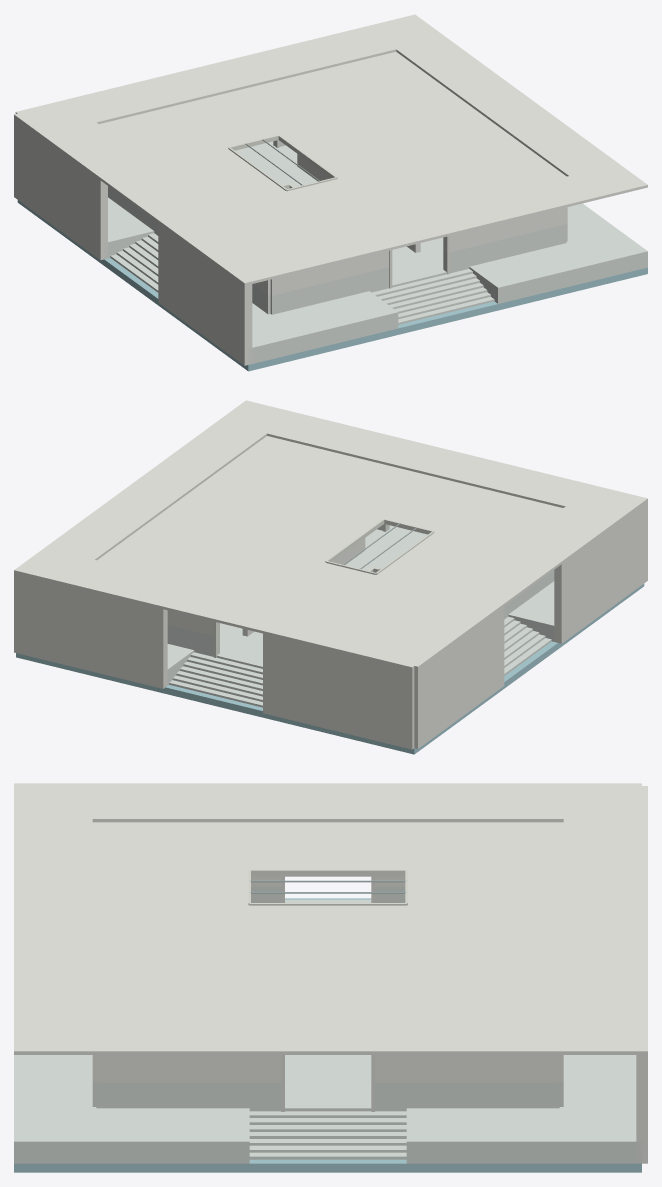
File: circular_bath.glb
3 views of the same model, one above another, from view 1: azimuth 30°, elevation 25°; view 2: azimuth 150°, elevation 25°; view 3: azimuth 270°, elevation 25° (orthographic). The views are drawn at different scales.
Parts seen in each view (by area): view 1: IntegratedRoom_art_pass_plaster_oyster, IntegratedRoom_art_pass_tile_pearl, IntegratedRoom_art_pass_tile_blue, IntegratedRoom_art_pass_coping_ivory; view 2: IntegratedRoom_art_pass_plaster_oyster, IntegratedRoom_art_pass_tile_pearl, IntegratedRoom_art_pass_tile_blue, IntegratedRoom_art_pass_coping_ivory; view 3: IntegratedRoom_art_pass_plaster_oyster, IntegratedRoom_art_pass_tile_pearl, IntegratedRoom_art_pass_tile_blue, IntegratedRoom_art_pass_coping_ivory, IntegratedRoom_art_pass_steel_brushed.
Part boxes in pixels (<box>): IntegratedRoom_art_pass_plaster_oyster: <box>14,14,647,365</box>; IntegratedRoom_art_pass_tile_pearl: <box>104,141,647,364</box>; IntegratedRoom_art_pass_tile_blue: <box>17,200,647,371</box>; IntegratedRoom_art_pass_coping_ivory: <box>228,135,449,288</box>; IntegratedRoom_art_pass_plaster_oyster: <box>14,400,647,749</box>; IntegratedRoom_art_pass_tile_pearl: <box>165,524,554,707</box>; IntegratedRoom_art_pass_tile_blue: <box>16,584,644,754</box>; IntegratedRoom_art_pass_coping_ivory: <box>213,519,434,657</box>; IntegratedRoom_art_pass_plaster_oyster: <box>14,783,647,1163</box>; IntegratedRoom_art_pass_tile_pearl: <box>14,886,641,1163</box>; IntegratedRoom_art_pass_tile_blue: <box>14,898,641,1172</box>; IntegratedRoom_art_pass_coping_ivory: <box>248,869,407,1111</box>; IntegratedRoom_art_pass_steel_brushed: <box>249,880,406,893</box>.
Size of what is drawn, in the model's own units: 32.3 by 6.82 by 32.3.
